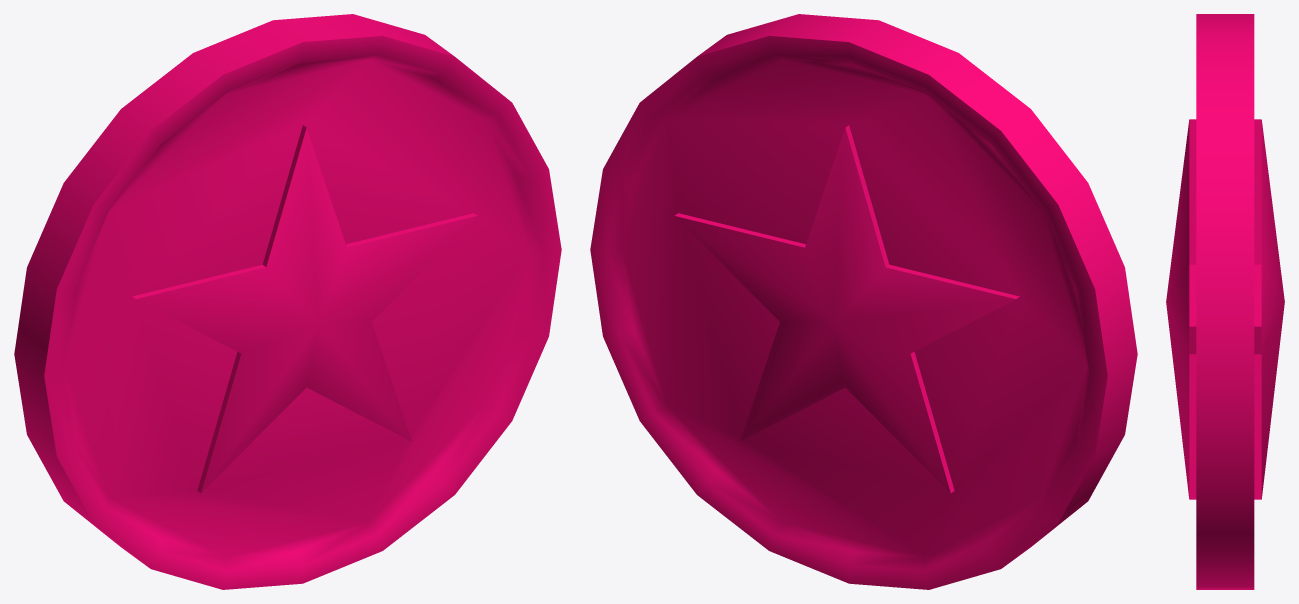
File: Bonus Coin.fbx
The picture shows the model from 3 angles, left to right: view 1: azimuth 30°, elevation 25°; view 2: azimuth 150°, elevation 25°; view 3: azimuth 270°, elevation 25°; orthographic projection. The views are drawn at different scales.
Parts seen in each view (by area): view 1: Coin; view 2: Coin; view 3: Coin.
Part boxes in pixels (bbox=[...]): Coin: bbox=[14, 14, 561, 589]; Coin: bbox=[590, 14, 1137, 589]; Coin: bbox=[1166, 14, 1284, 589].
Bounding box in the file's own units: 200 × 200 × 40.94.
